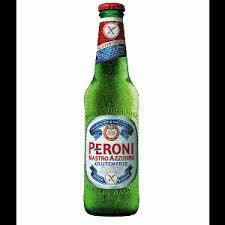beer: (85, 3, 140, 216)
